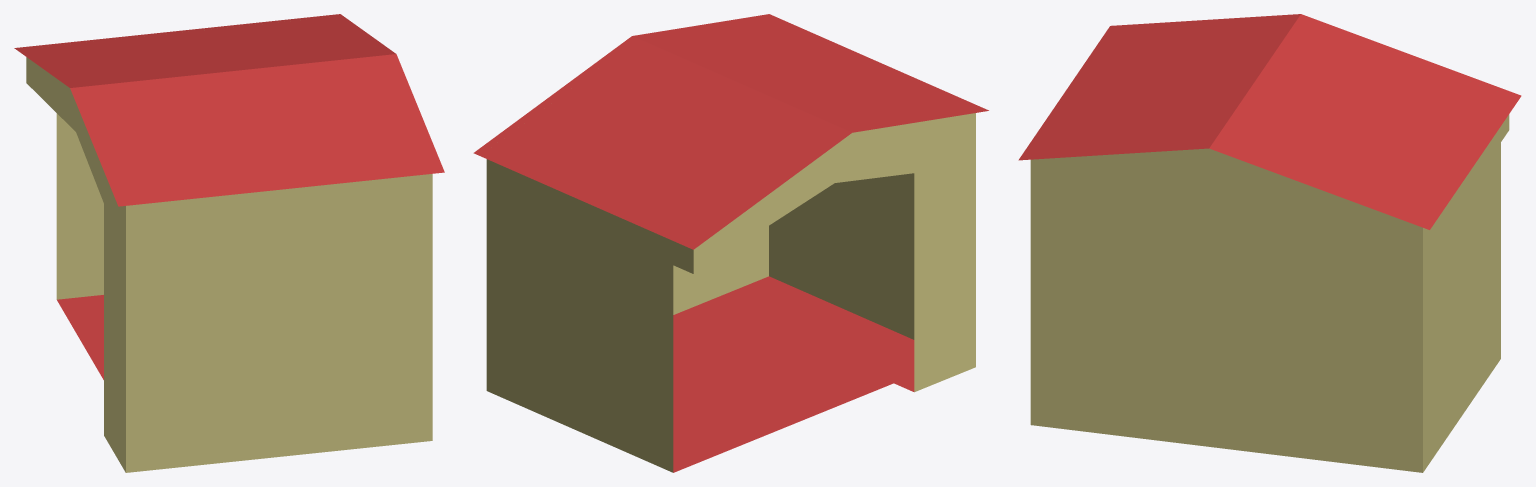
The picture shows the model from 3 angles, left to right: view 1: azimuth 30°, elevation 25°; view 2: azimuth 150°, elevation 25°; view 3: azimuth 270°, elevation 25°; orthographic projection. The views are drawn at different scales.
Bounding box in the file's own units: 10.94 × 12.6 × 8.36.
